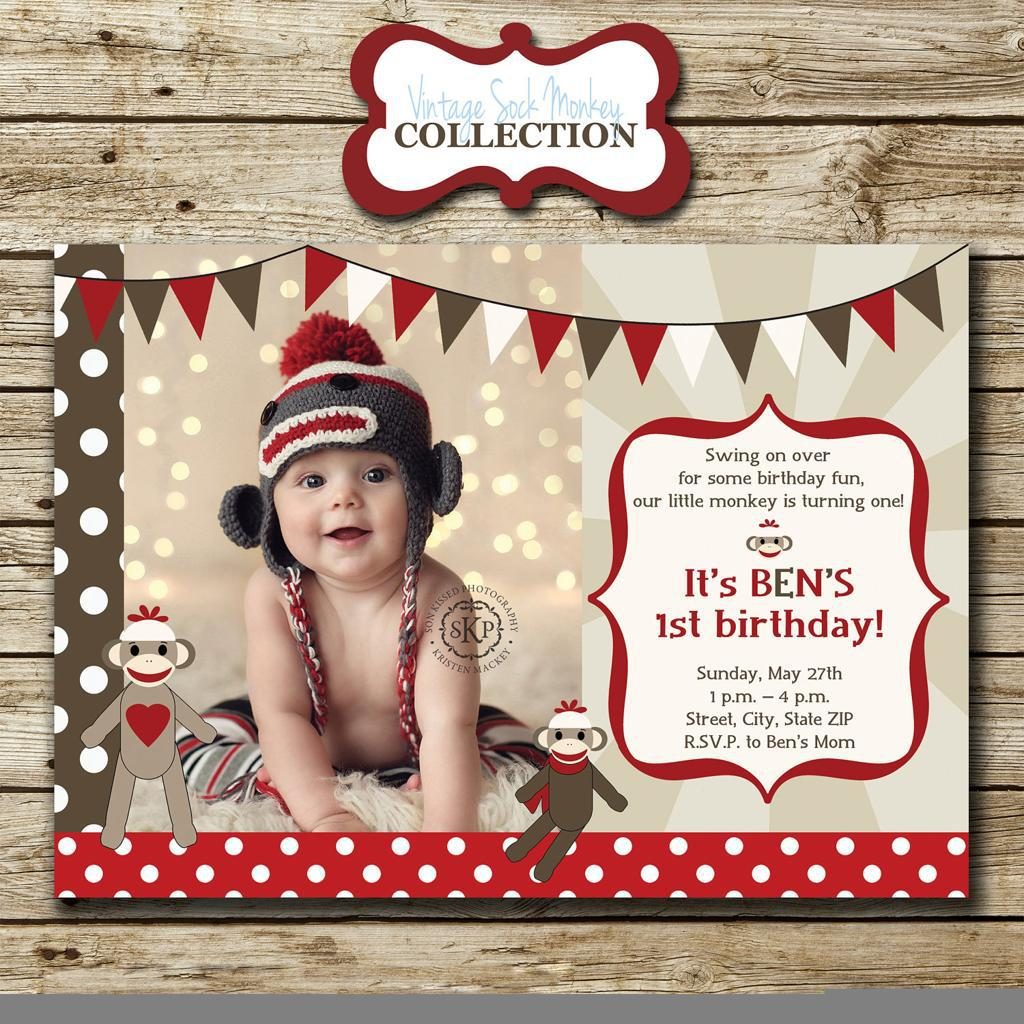face: (275, 417, 413, 573)
